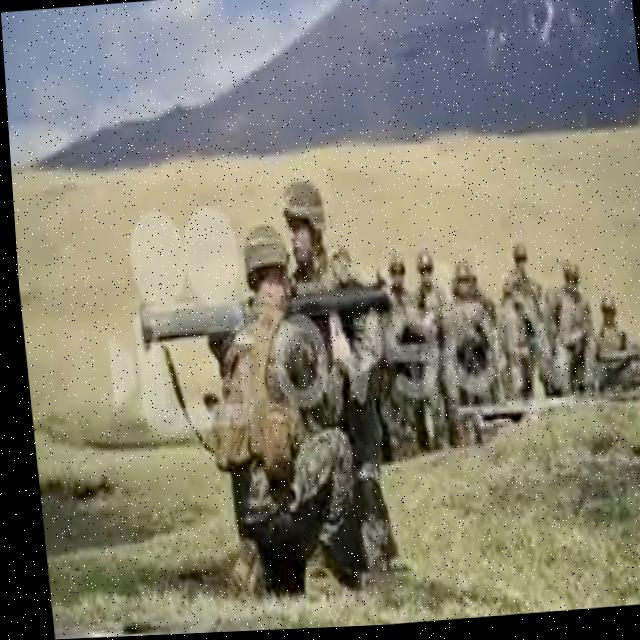rocket: (133, 281, 389, 348)
